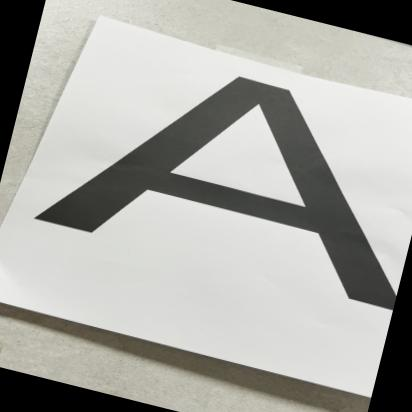seat: (36, 38, 412, 343)
